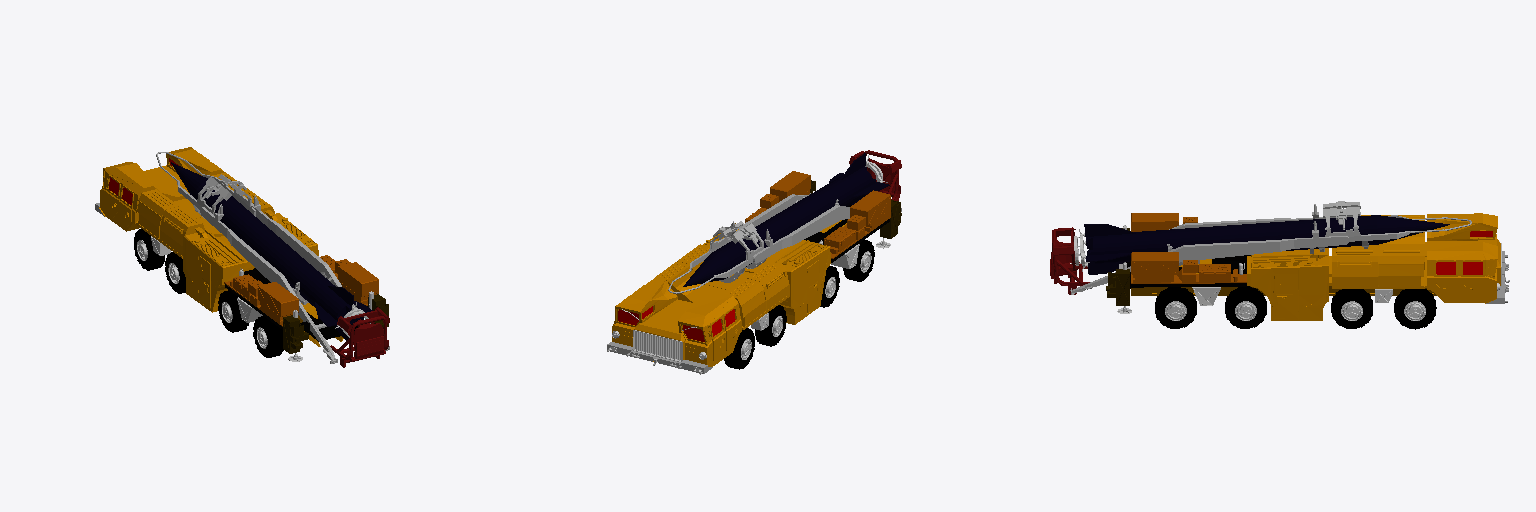
The model's file is art.obj.
3 views of the same model, side by side, from view 1: azimuth 30°, elevation 25°; view 2: azimuth 150°, elevation 25°; view 3: azimuth 270°, elevation 25° (orthographic).
Bounding box in the file's own units: 0.7941 × 0.8 × 3.2.